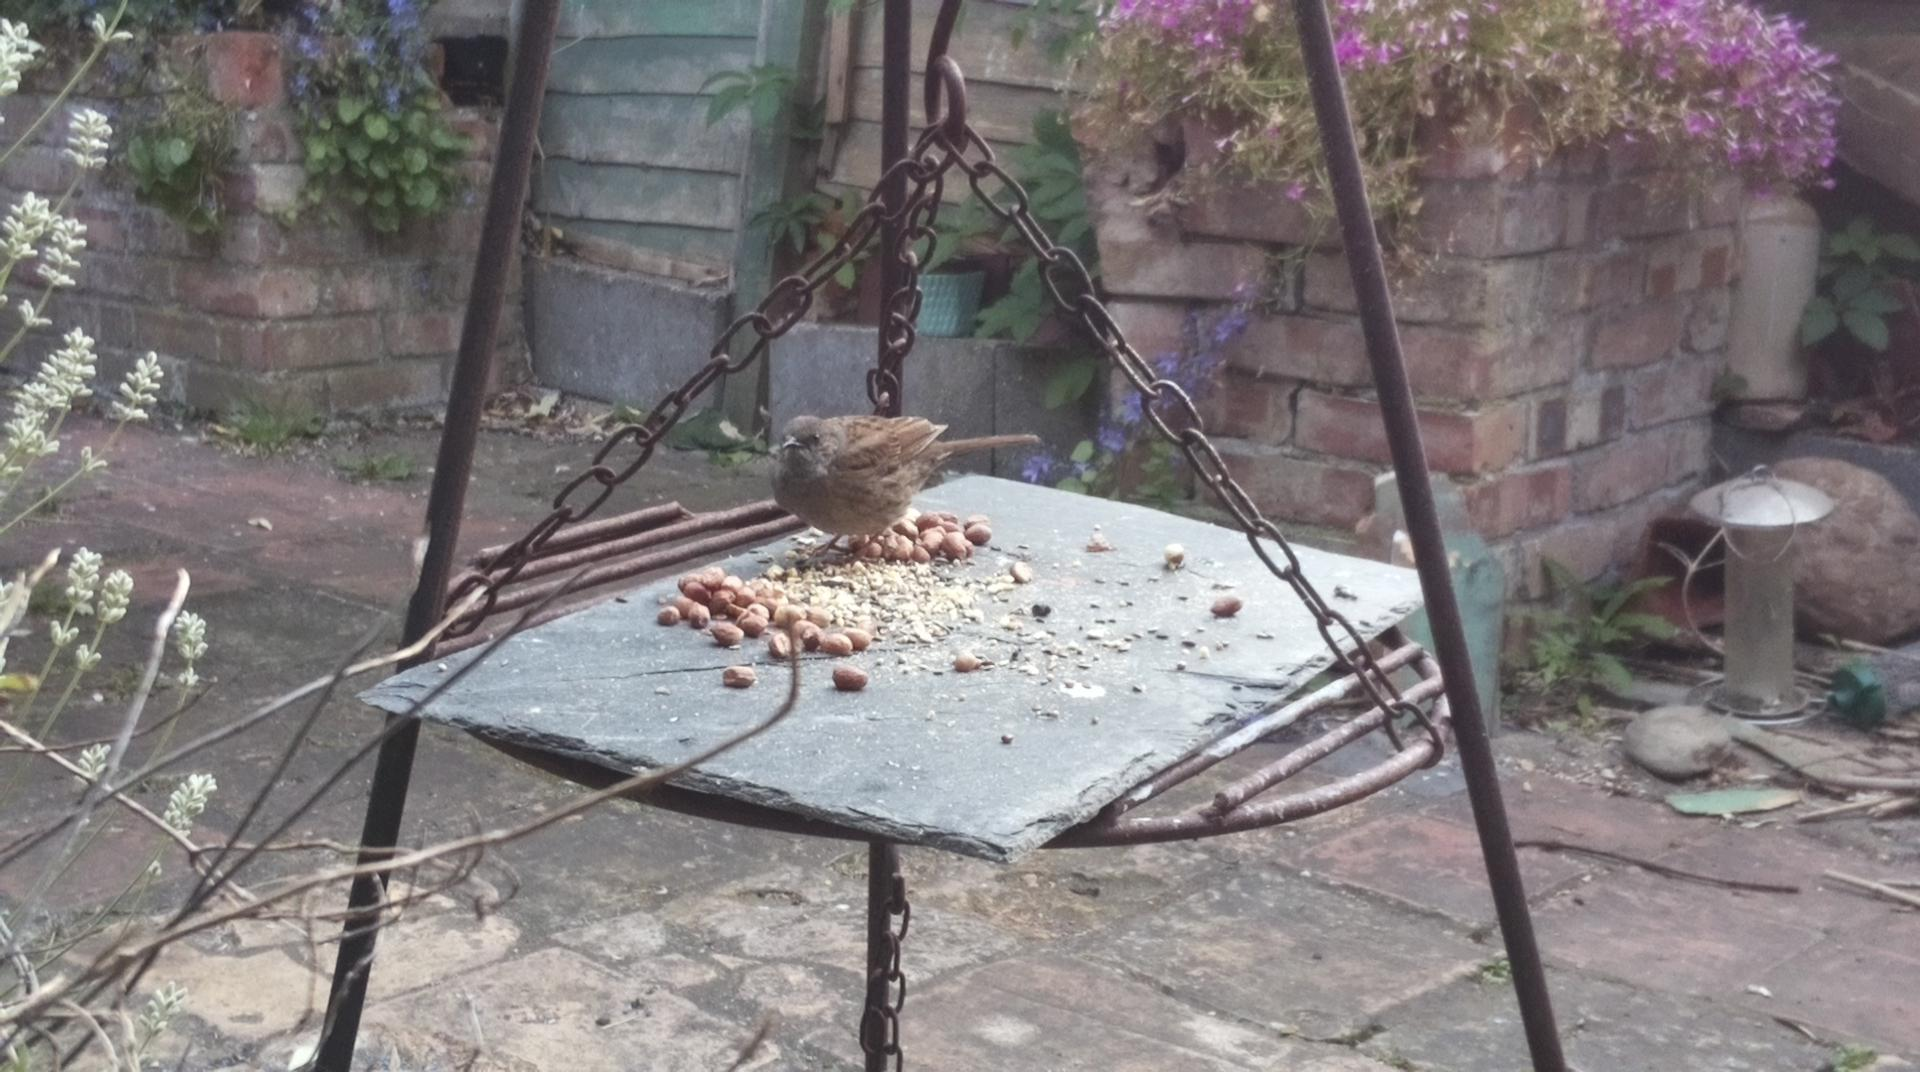dunnock: (771, 414, 1040, 570)
